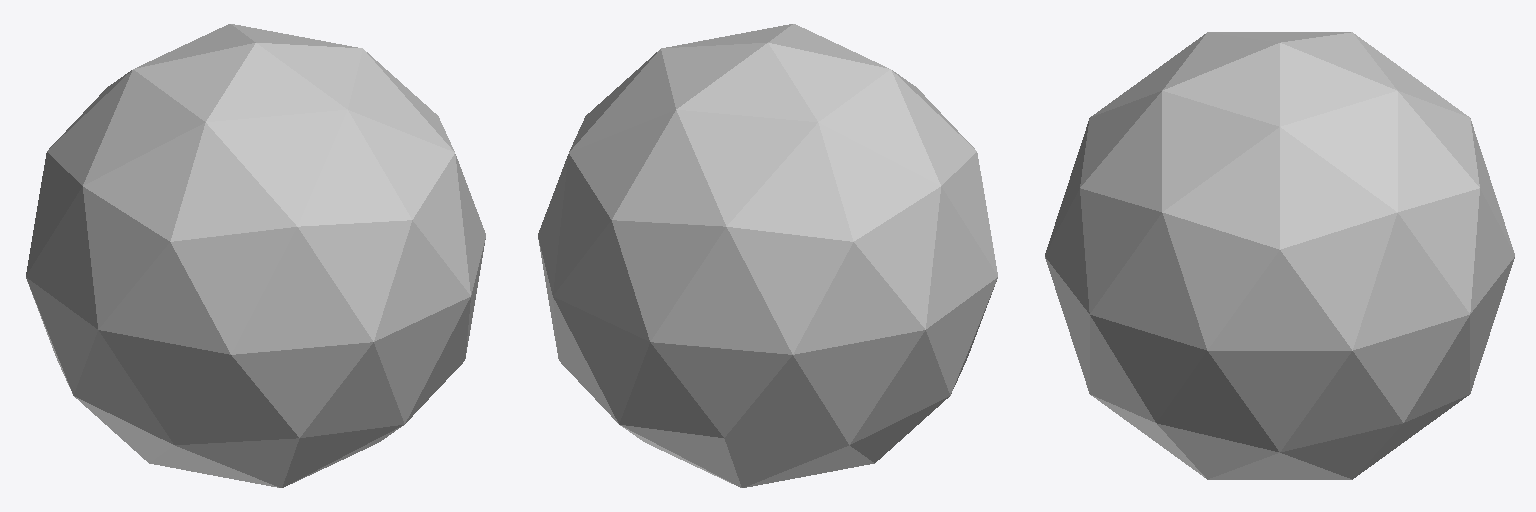
The model's file is beacon.obj.
3 views of the same model, side by side, from view 1: azimuth 30°, elevation 25°; view 2: azimuth 150°, elevation 25°; view 3: azimuth 270°, elevation 25° (orthographic).
Size of the model in its own units: 0.0143 by 0.015 by 0.015.